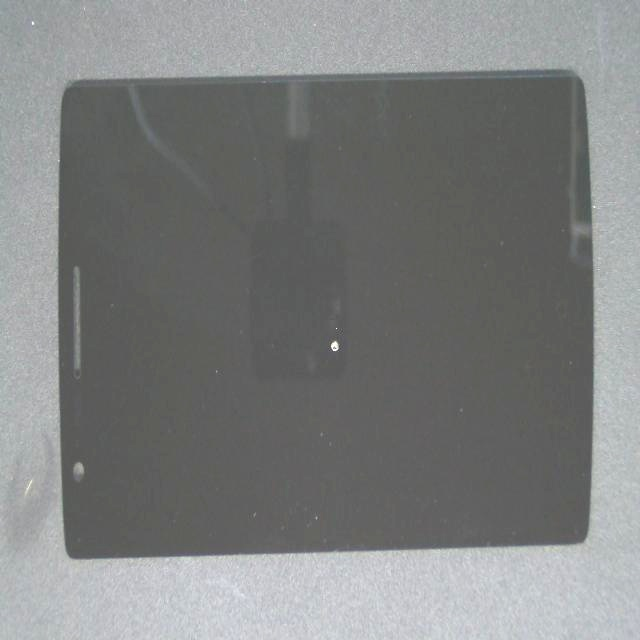stain: (150, 156, 491, 547)
